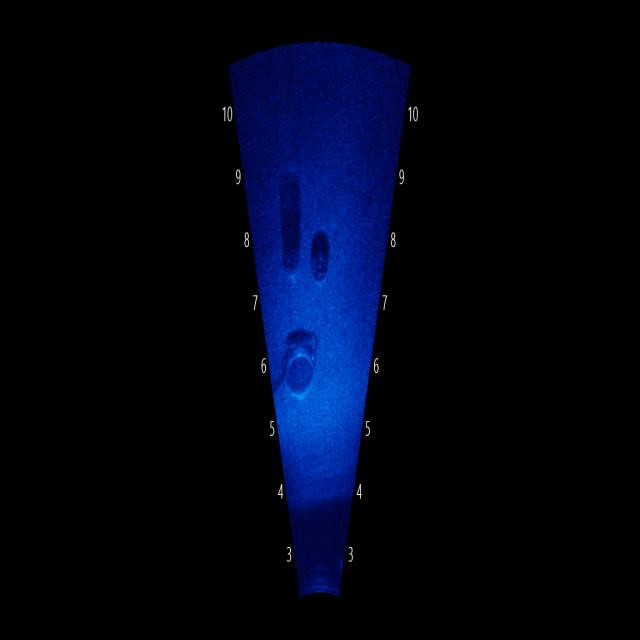circle: (272, 326, 329, 426), (279, 224, 304, 298), (308, 238, 332, 294)
